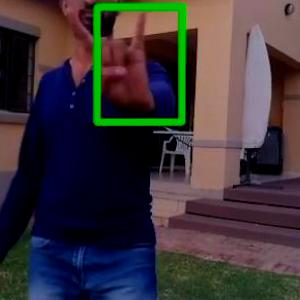takeoff-hand: (54, 0, 158, 115)
